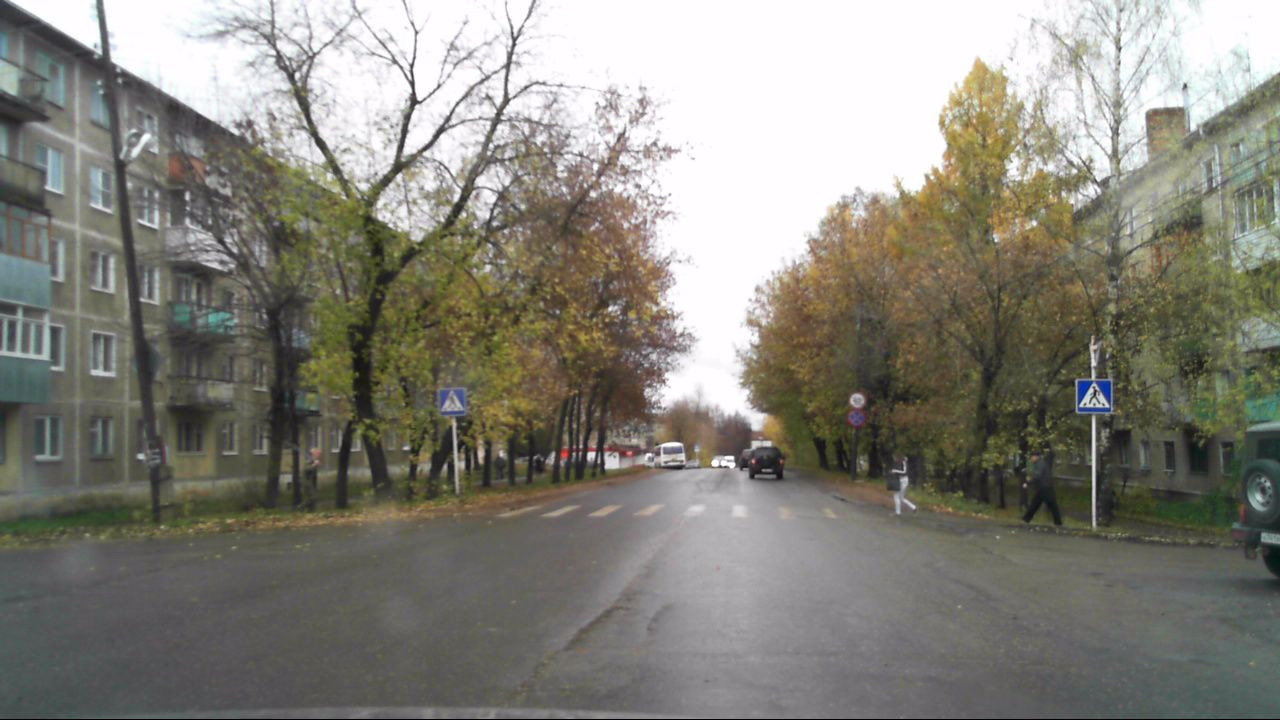No Parking: (846, 407, 867, 428)
speed_warning_40: (849, 390, 869, 410)
